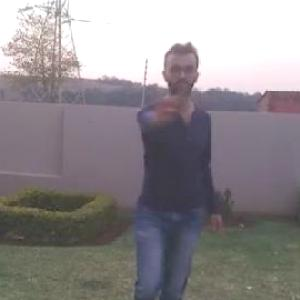takeoff-hand: (142, 80, 184, 120)
